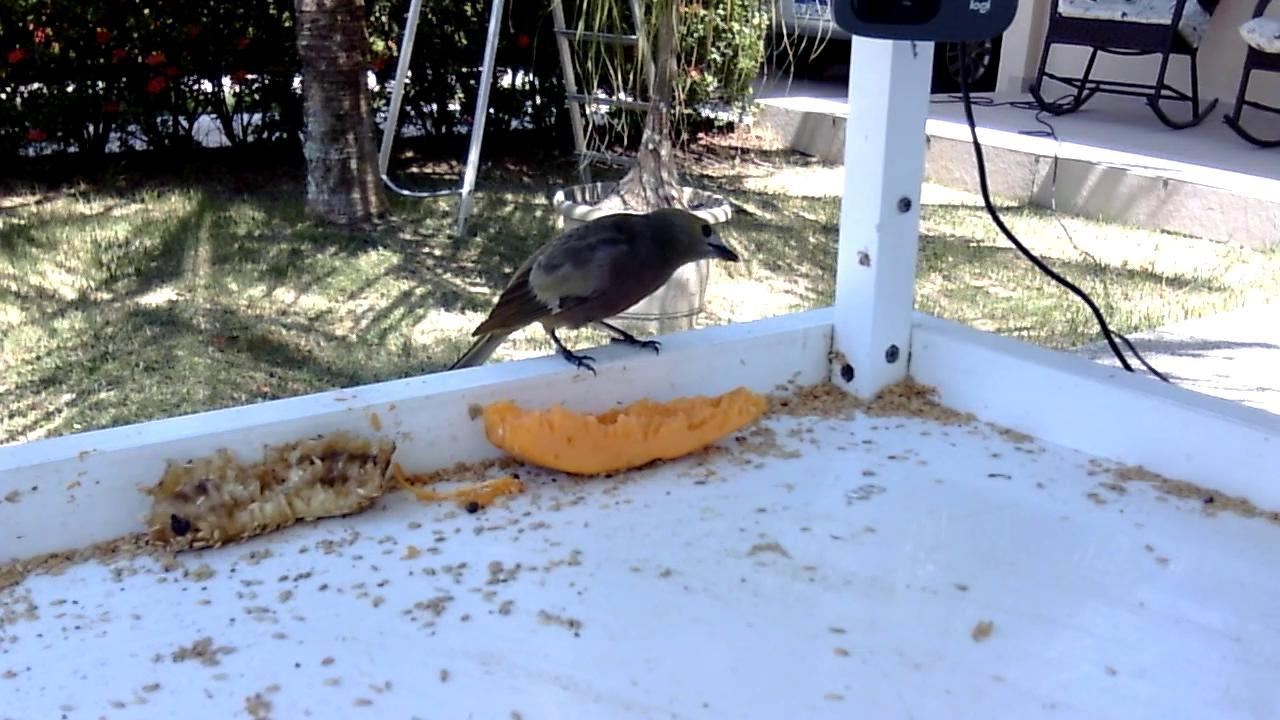sanhaco_do_coqueiro: (448, 206, 744, 382)
